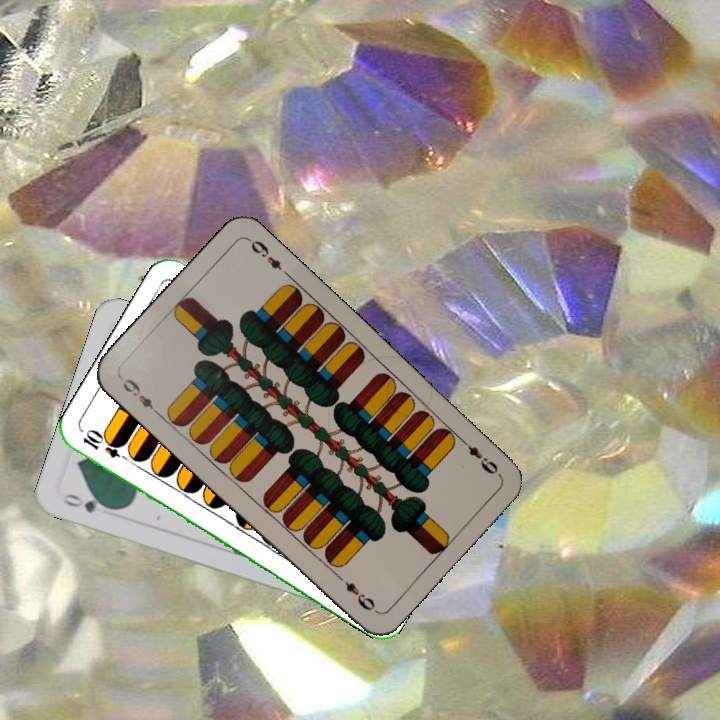E10: (78, 427, 135, 466)
E9: (116, 374, 163, 418), (456, 434, 501, 477)
GO: (59, 489, 117, 516)
